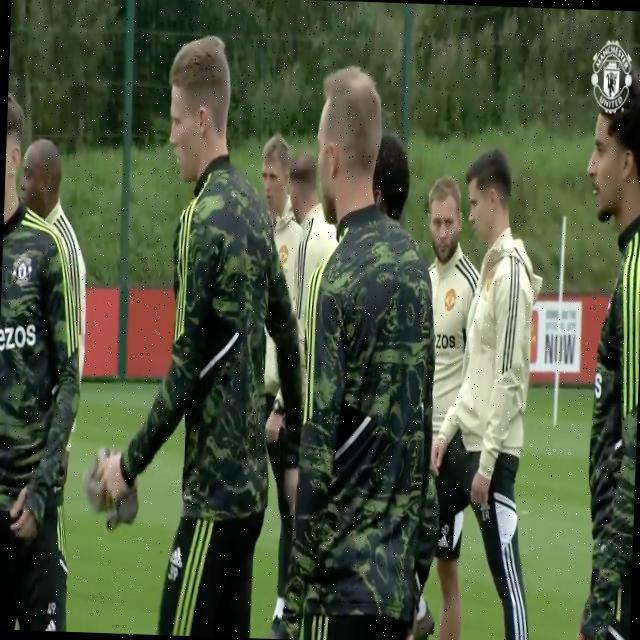Adidas: (169, 544, 184, 568), (437, 533, 450, 550)
